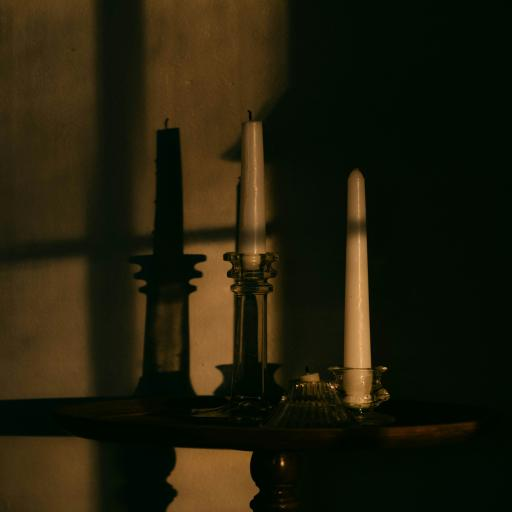candlelight: (226, 106, 284, 250)
